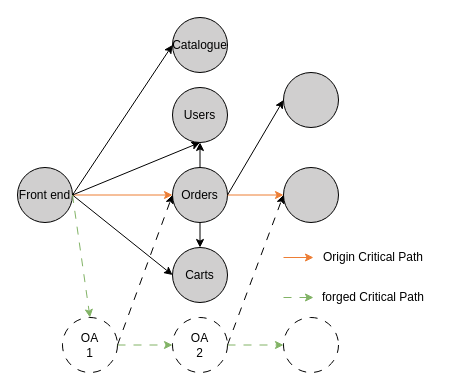
This 451x390 diagram has some shape labels left out. Here are the shapes that lost their labels. From the top down, the box of each, then its label:
(282, 72, 338, 128): Shipping
(282, 166, 338, 222): Payment
(282, 316, 338, 372): OA 3
